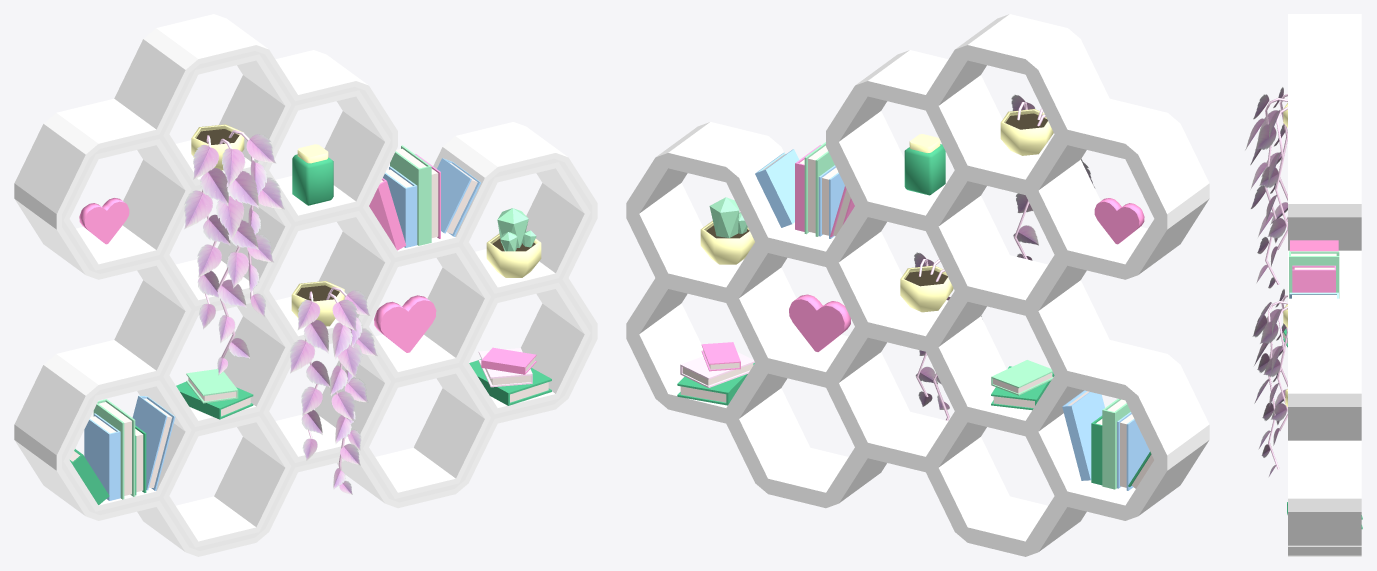
The model's file is Shelf2.glb.
The picture shows the model from 3 angles, left to right: view 1: azimuth 30°, elevation 25°; view 2: azimuth 150°, elevation 25°; view 3: azimuth 270°, elevation 25°; orthographic projection. The views are drawn at different scales.
Visible parts, largest first — view 1: Shelf2; view 2: Shelf2; view 3: Shelf2.
Boxes of the visible parts, bbox=[...] form: Shelf2: bbox=[14, 14, 597, 556]; Shelf2: bbox=[626, 14, 1209, 556]; Shelf2: bbox=[1245, 14, 1362, 556].
Size of what is drawn, in the model's own units: 3.66 by 3.22 by 0.8376.
Materials: 4 (4 with a texture image).
